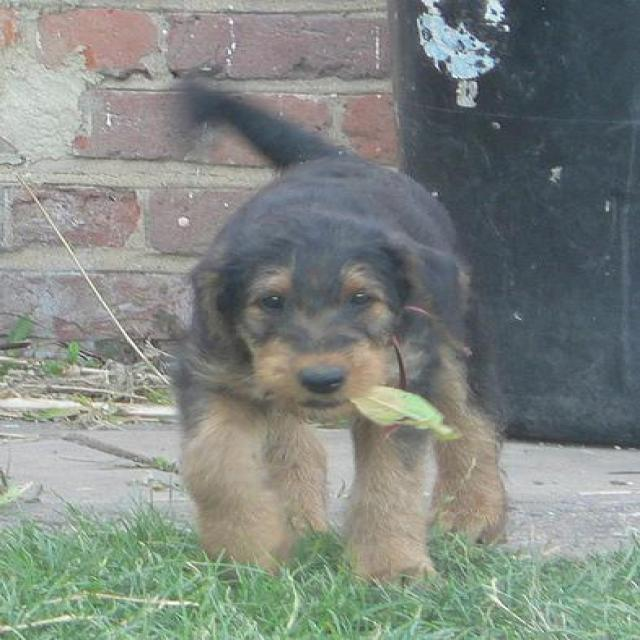airedale: (173, 81, 511, 588)
